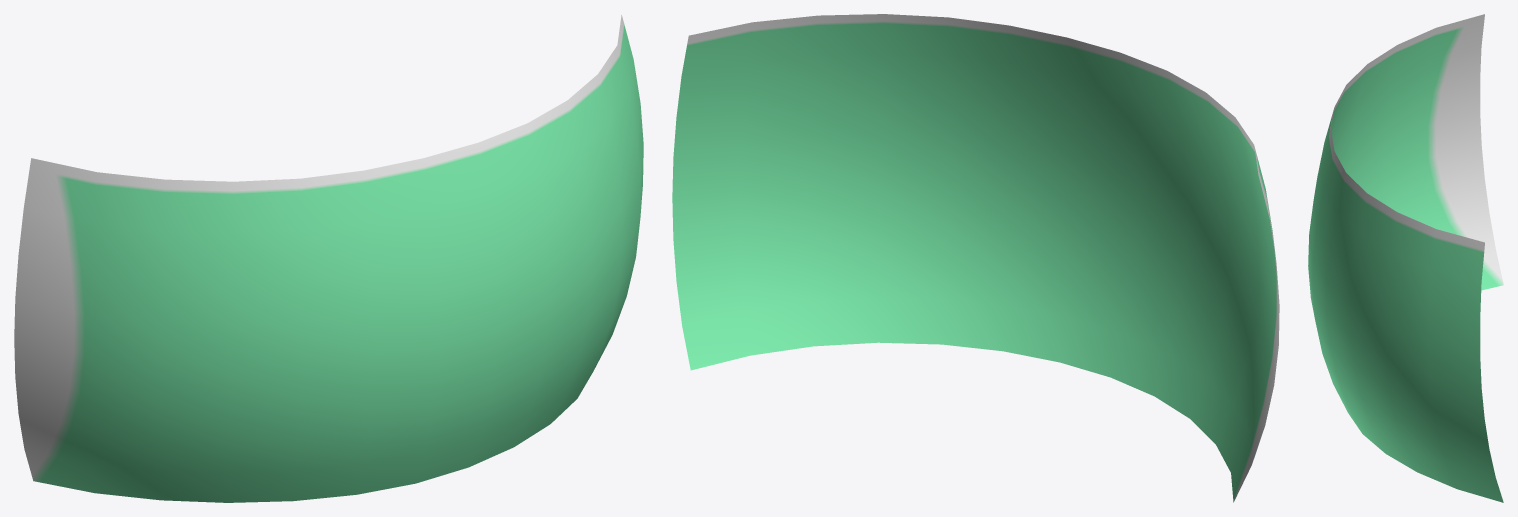
File: Cute Robot Face.fbx
3 renders of one model, left to right at view 1: azimuth 30°, elevation 25°; view 2: azimuth 150°, elevation 25°; view 3: azimuth 270°, elevation 25°, orthographic. The views are drawn at different scales.
Visible parts, largest first — view 1: Cute Robot; view 2: Cute Robot; view 3: Cute Robot.
Part boxes in pixels (<box>): Cute Robot: <box>14,15,643,502</box>; Cute Robot: <box>672,14,1279,502</box>; Cute Robot: <box>1308,14,1503,502</box>.
Size of the model in its own units: 55.82 by 28.43 by 18.97.
